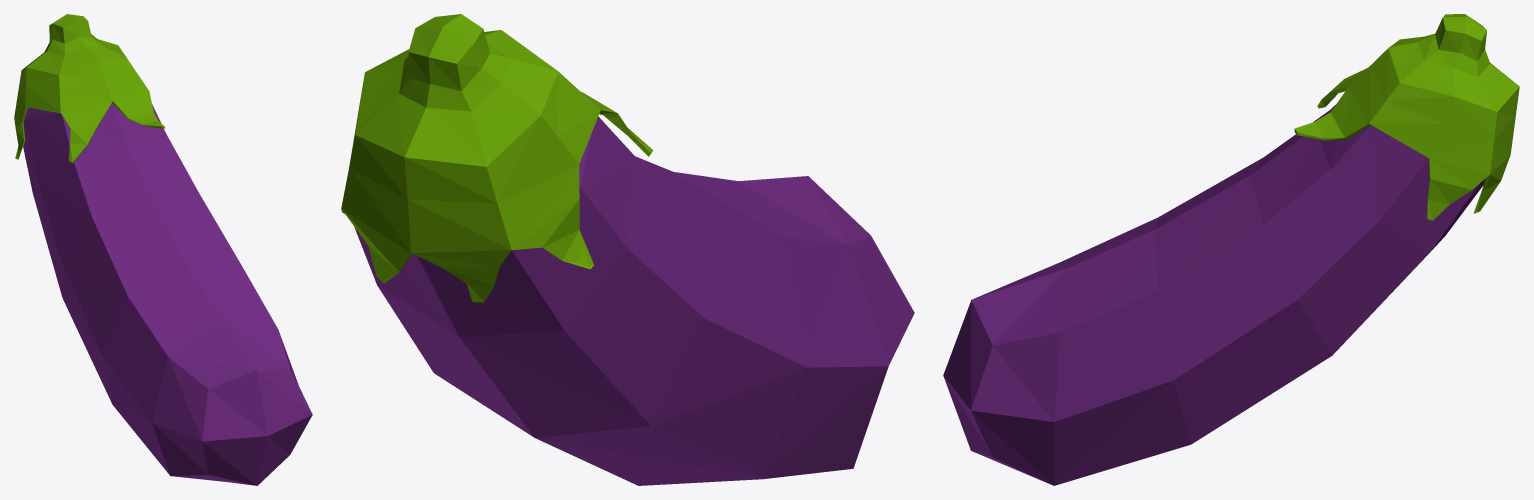
The model's file is eggplant.gltf.
3 views of the same model, side by side, from view 1: azimuth 30°, elevation 25°; view 2: azimuth 150°, elevation 25°; view 3: azimuth 270°, elevation 25° (orthographic). The views are drawn at different scales.
Parts seen in each view (by area): view 1: node-0; view 2: node-0; view 3: node-0.
Boxes of the visible parts, left/top/right/bottom form: node-0: left=14, top=14, right=312, bottom=485; node-0: left=341, top=14, right=914, bottom=485; node-0: left=943, top=14, right=1519, bottom=485.
Size of the model in its own units: 1.13 by 2.46 by 2.8.
